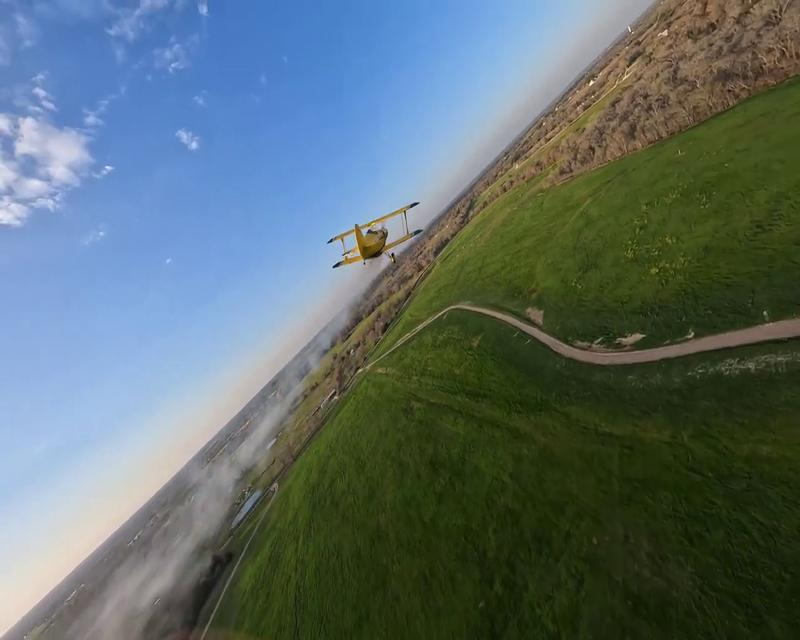UAV: (325, 200, 423, 269)
